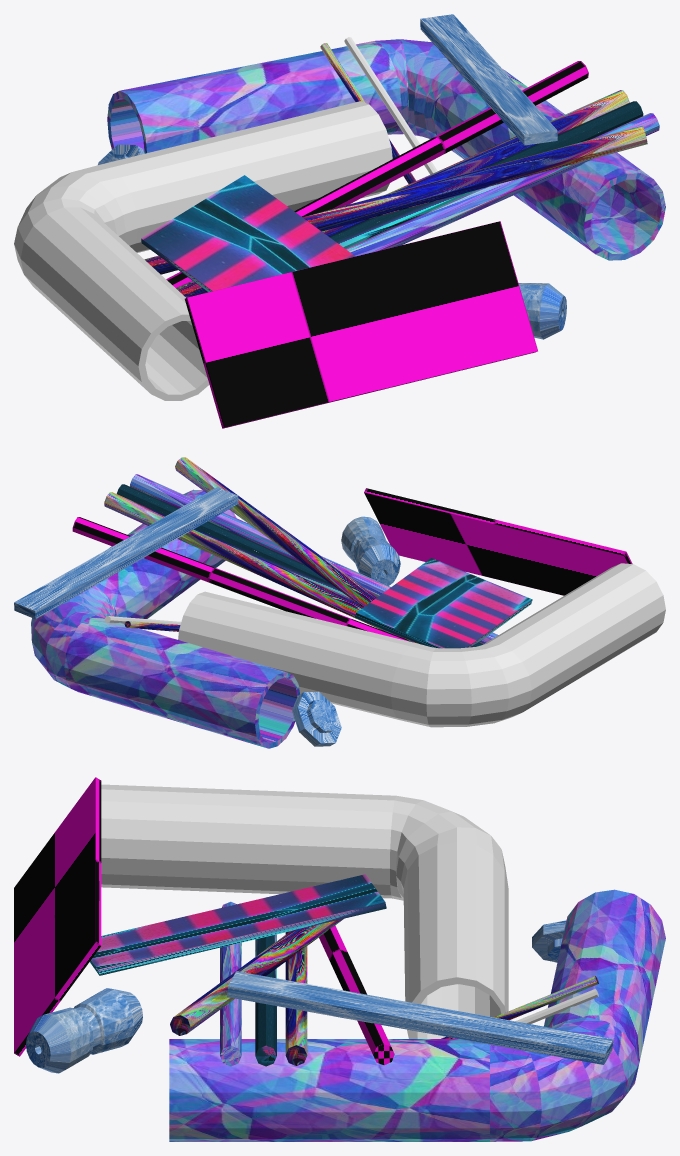
File: scrap_metal_wall_4.fbx
3 views of the same model, one above another, from view 1: azimuth 30°, elevation 25°; view 2: azimuth 150°, elevation 25°; view 3: azimuth 270°, elevation 25° (orthographic). The views are drawn at different scales.
Visible parts, largest first — view 1: Cube.001, Cylinder.004, Cylinder.002, Cube.002, Cylinder.009, Cube, Cylinder.008, Cylinder.000, Cylinder.005, Cylinder.007, Cylinder.003, Cylinder.011 (+1 smaller); view 2: Cylinder.004, Cylinder.002, Cube.001, Cube.002, Cube, Cylinder.008, Cylinder.007, Cylinder.009, Cylinder.003, Cylinder.000, Cylinder.005, Cylinder.006; view 3: Cylinder.002, Cylinder.004, Cube.001, Cube.002, Cube, Cylinder.003, Cylinder.009, Cylinder.008, Cylinder.000, Cylinder.007, Cylinder.005, Cylinder.006 (+2 smaller).
Part boxes in pixels (left/top/right/bottom): Cube.001: left=184, top=221, right=537, bottom=428; Cylinder.004: left=14, top=101, right=392, bottom=400; Cylinder.002: left=107, top=39, right=665, bottom=260; Cube.002: left=141, top=175, right=355, bottom=292; Cylinder.009: left=144, top=126, right=647, bottom=274; Cube: left=420, top=14, right=557, bottom=145; Cylinder.008: left=166, top=61, right=588, bottom=287; Cylinder.000: left=346, top=113, right=659, bottom=256; Cylinder.005: left=202, top=101, right=643, bottom=293; Cylinder.007: left=176, top=90, right=629, bottom=297; Cylinder.003: left=518, top=283, right=566, bottom=339; Cylinder.011: left=344, top=37, right=437, bottom=174; Cylinder.004: left=178, top=563, right=665, bottom=727; Cylinder.002: left=31, top=489, right=299, bottom=748; Cube.001: left=364, top=488, right=632, bottom=595; Cube.002: left=354, top=558, right=532, bottom=648; Cube: left=14, top=487, right=238, bottom=619; Cylinder.008: left=72, top=517, right=410, bottom=641; Cylinder.007: left=104, top=492, right=405, bottom=638; Cylinder.009: left=175, top=457, right=417, bottom=643; Cylinder.003: left=341, top=516, right=400, bottom=585; Cylinder.000: left=130, top=474, right=498, bottom=644; Cylinder.005: left=116, top=484, right=482, bottom=646; Cylinder.006: left=292, top=691, right=341, bottom=746; Cylinder.002: left=169, top=889, right=665, bottom=1141; Cylinder.004: left=101, top=784, right=508, bottom=1038; Cube.001: left=14, top=777, right=101, bottom=1056; Cube.002: left=90, top=874, right=386, bottom=975; Cube: left=227, top=971, right=613, bottom=1064; Cylinder.003: left=26, top=988, right=142, bottom=1073; Cylinder.009: left=170, top=918, right=343, bottom=1035; Cylinder.008: left=319, top=925, right=394, bottom=1065; Cylinder.000: left=220, top=901, right=241, bottom=1066; Cylinder.007: left=285, top=931, right=307, bottom=1065; Cylinder.005: left=255, top=934, right=276, bottom=1066; Cylinder.006: left=532, top=920, right=566, bottom=962.
Bounding box in the file's own units: 192 × 40.92 × 173.
6 materials, 5 textured.
